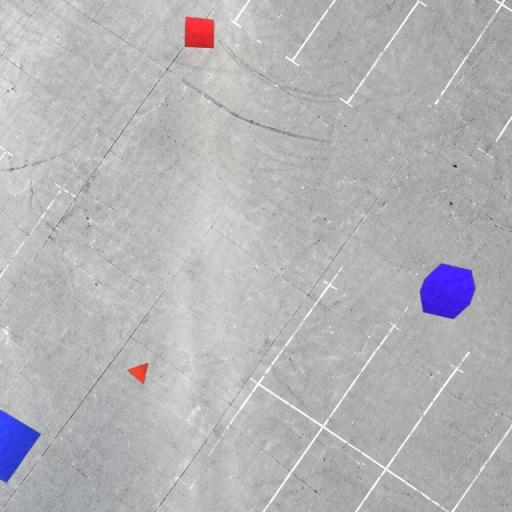BLUE_SQUARE: (0, 404, 42, 484)
RED_SQUARE: (184, 16, 215, 49)
